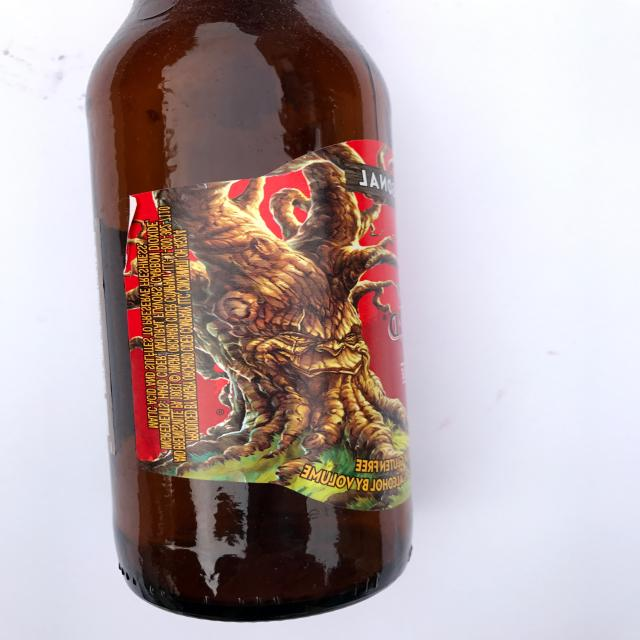glass: (86, 0, 414, 623)
